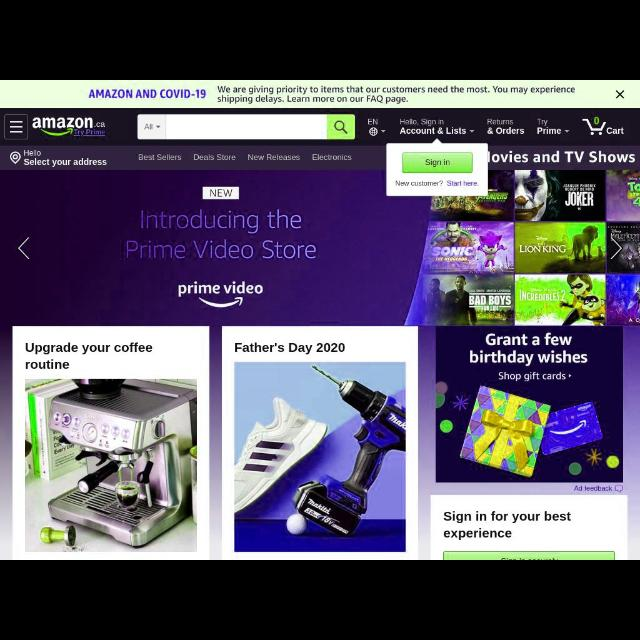button: (328, 114, 354, 140)
icon: (18, 237, 32, 260), (9, 118, 23, 136), (612, 90, 626, 100), (12, 153, 21, 165), (369, 127, 378, 135), (469, 128, 476, 134), (156, 124, 162, 130), (380, 130, 386, 134), (564, 129, 570, 133)
image: (3, 170, 639, 326), (236, 362, 407, 552), (26, 378, 198, 552), (437, 326, 623, 482), (32, 116, 108, 138), (89, 88, 208, 102), (582, 117, 606, 137)
input: (138, 114, 356, 140)
link: (448, 180, 478, 186)
multitab: (133, 144, 365, 170)
panel: (1, 80, 639, 108), (388, 144, 488, 196)
spinner: (398, 114, 482, 140), (528, 113, 578, 141), (138, 115, 166, 138)
text: (217, 86, 578, 104), (26, 340, 152, 368), (443, 511, 573, 537), (236, 341, 346, 355), (400, 118, 466, 134), (486, 118, 526, 136), (23, 159, 107, 167), (536, 118, 562, 134), (394, 180, 444, 188), (140, 154, 184, 162), (311, 153, 354, 161), (246, 154, 302, 160), (194, 154, 236, 160), (608, 126, 626, 138), (25, 150, 41, 156), (145, 122, 153, 132), (368, 118, 379, 124)
textbutton: (403, 153, 473, 174), (443, 551, 614, 559)
toolbar: (1, 110, 639, 142)
